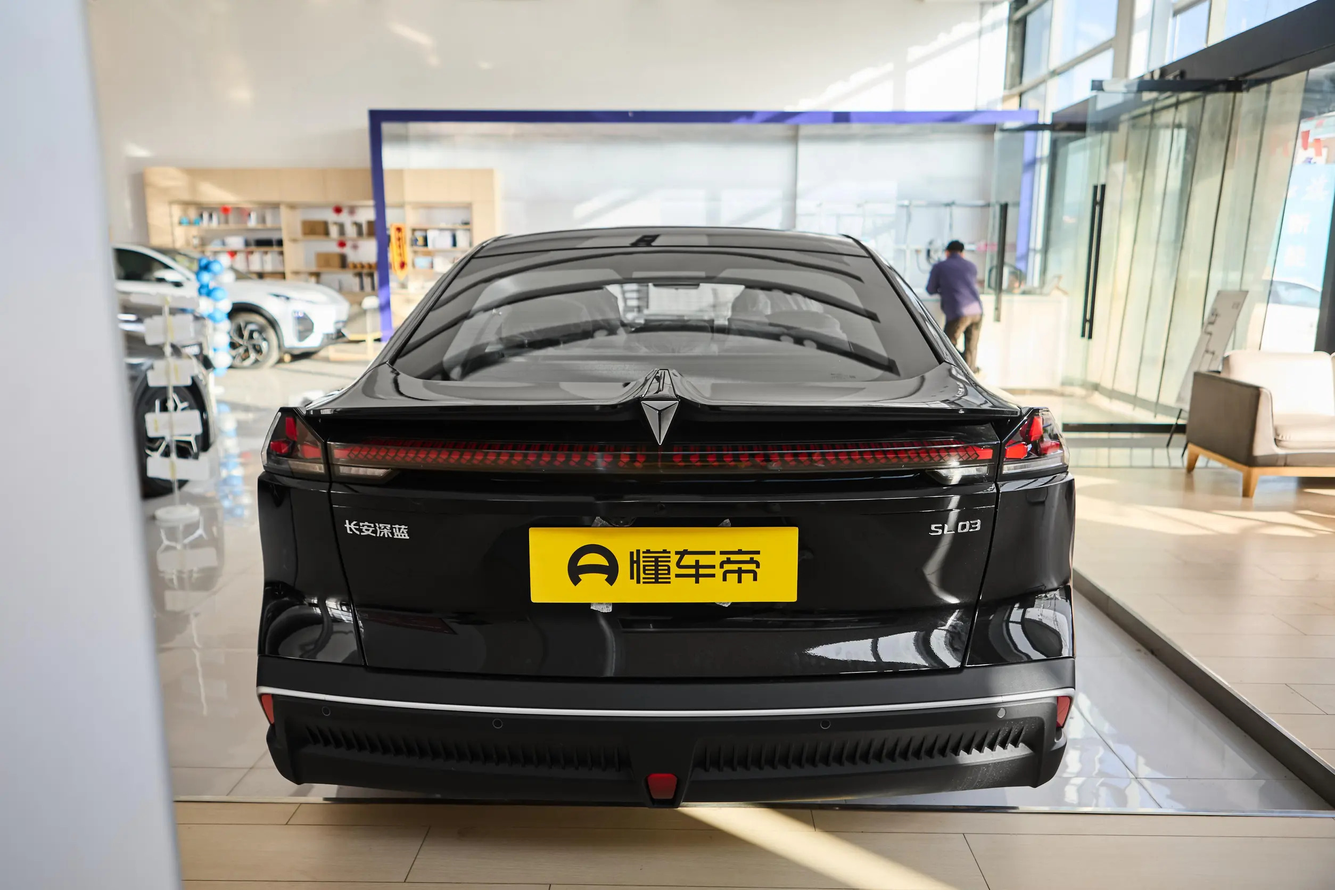Deepal: (641, 400, 679, 444)
